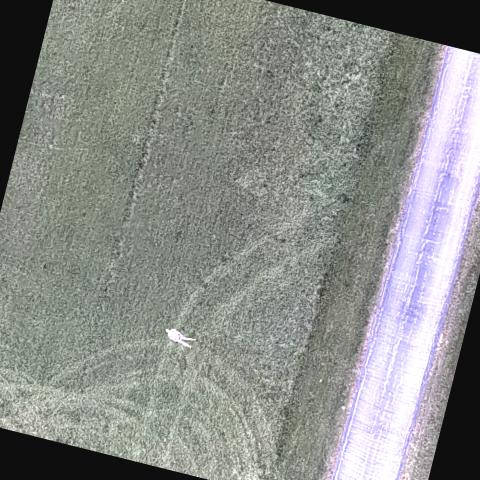person: (159, 322, 197, 347)
